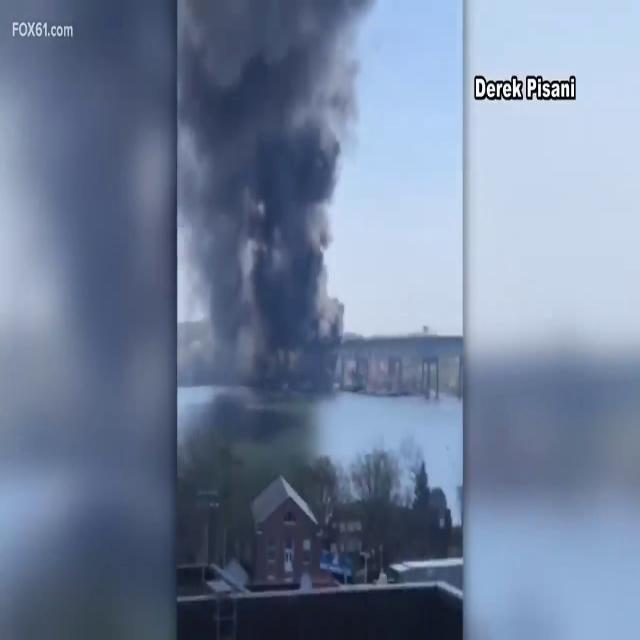Smoke: (178, 2, 382, 376)
